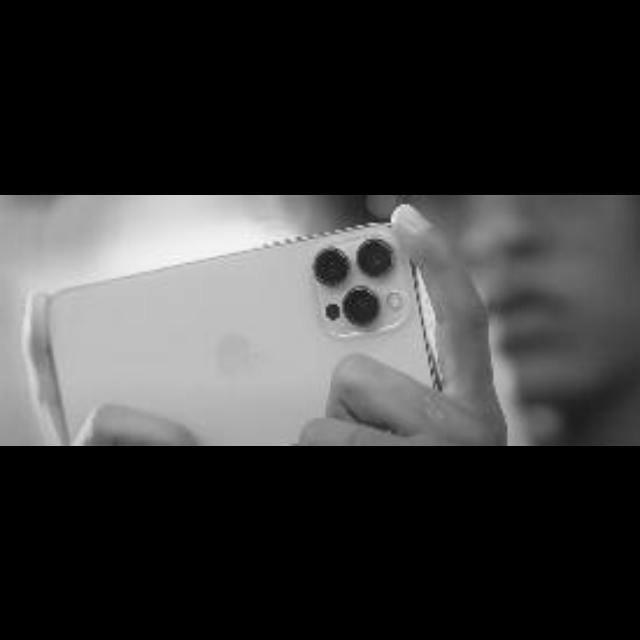fake: (10, 212, 588, 444)
